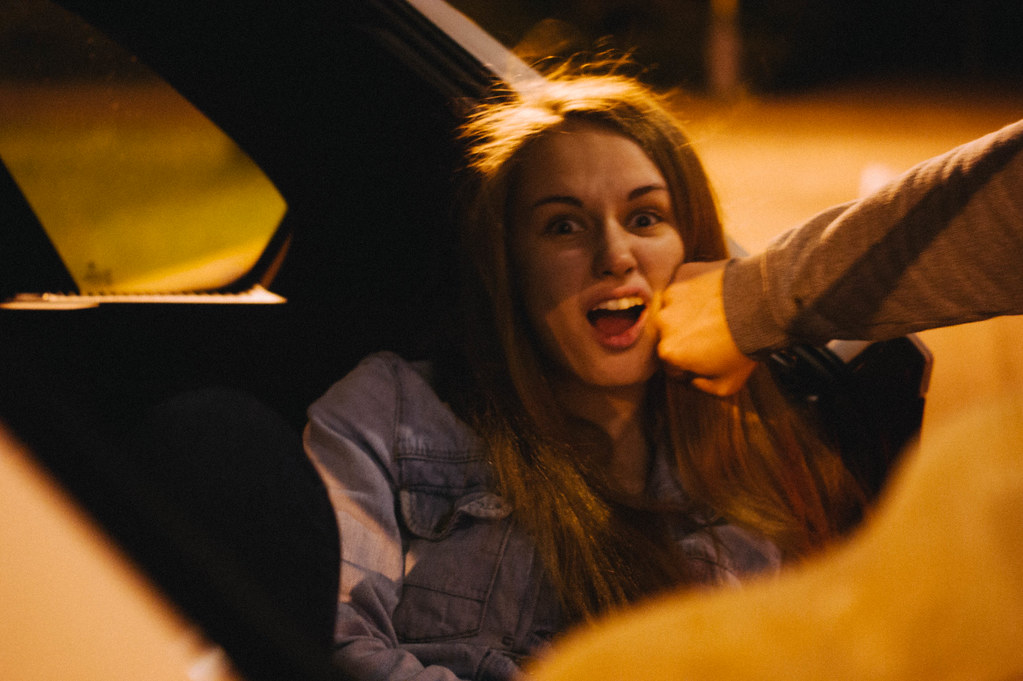person: (315, 34, 918, 673)
